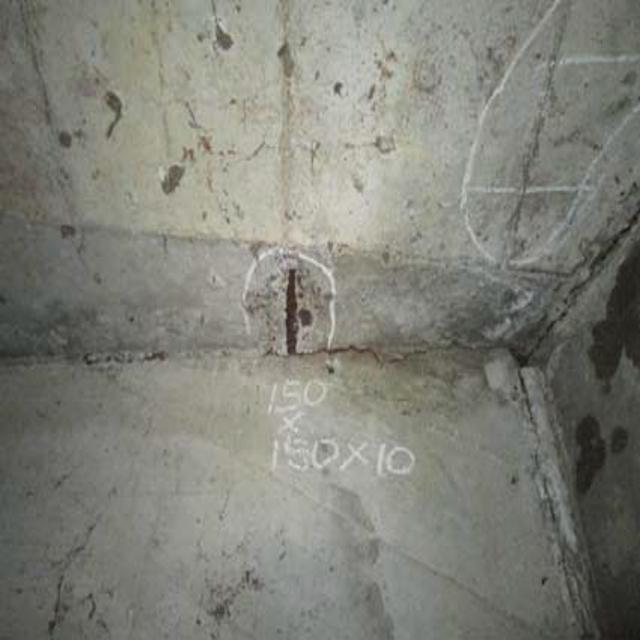spalling: (246, 255, 333, 362)
